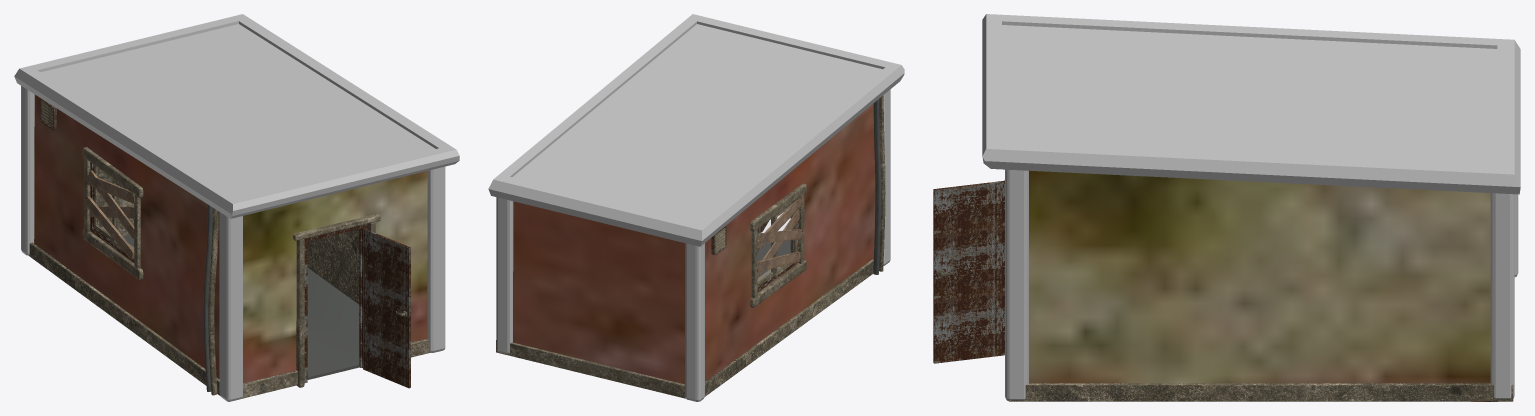
The model's file is SmallBrick.fbx.
The picture shows the model from 3 angles, left to right: view 1: azimuth 30°, elevation 25°; view 2: azimuth 150°, elevation 25°; view 3: azimuth 270°, elevation 25°; orthographic projection. The views are drawn at different scales.
Parts seen in each view (by area): view 1: Building_1_4, Door_2, DoorFrame_3; view 2: Building_1_4; view 3: Building_1_4, Door_2.
Part boxes in pixels (x1,y1,x2,y2): Building_1_4: (14, 14, 459, 401); Door_2: (363, 228, 410, 388); DoorFrame_3: (304, 224, 368, 382); Building_1_4: (488, 14, 904, 401); Building_1_4: (982, 14, 1520, 401); Door_2: (933, 180, 1004, 363).
Size of the model in its own units: 345 by 300 by 618.
